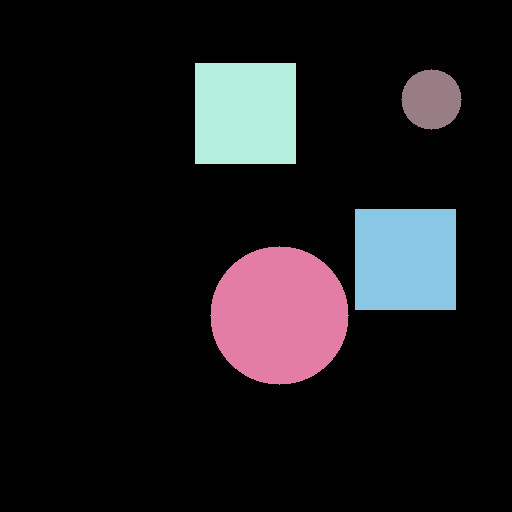circle: (210, 246, 348, 384), (401, 69, 461, 129)
square: (355, 209, 455, 309), (195, 63, 295, 163)
